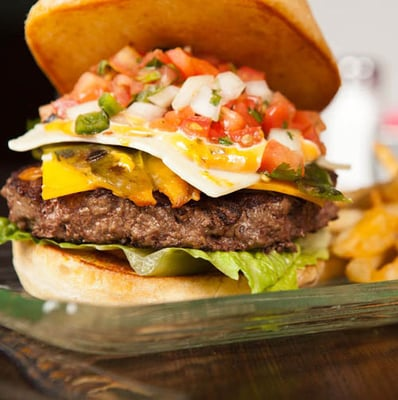soup: (3, 5, 346, 303), (25, 0, 340, 96)
